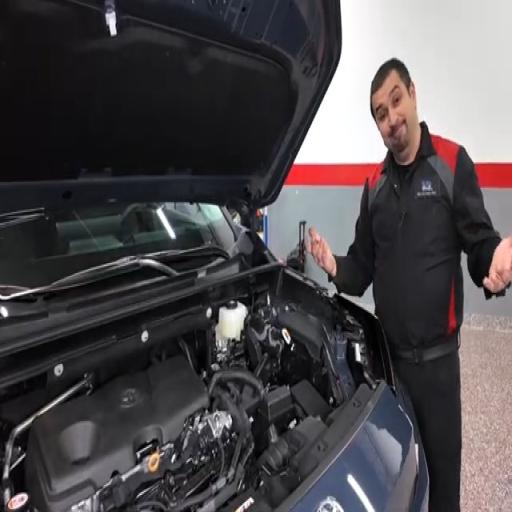bumper: (289, 387, 428, 511)
emblem: (316, 497, 343, 511)
hood: (0, 0, 341, 211)
windshield: (0, 202, 235, 287)
